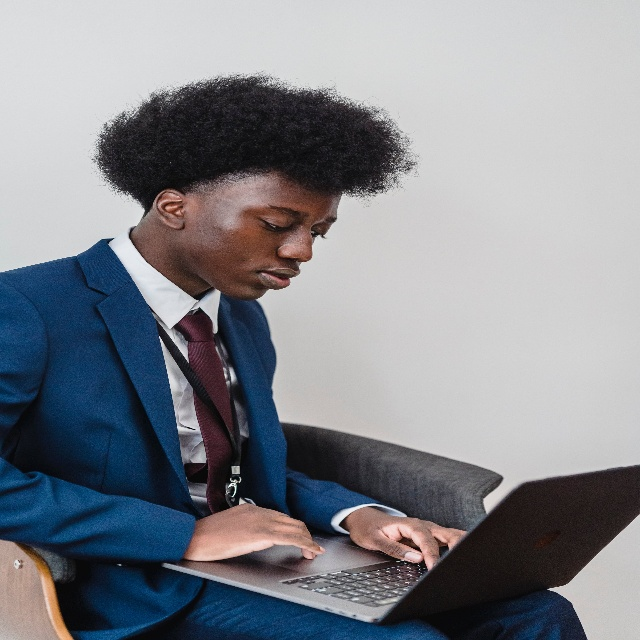Sin_guantes: (183, 502, 325, 563), (348, 505, 467, 571)
